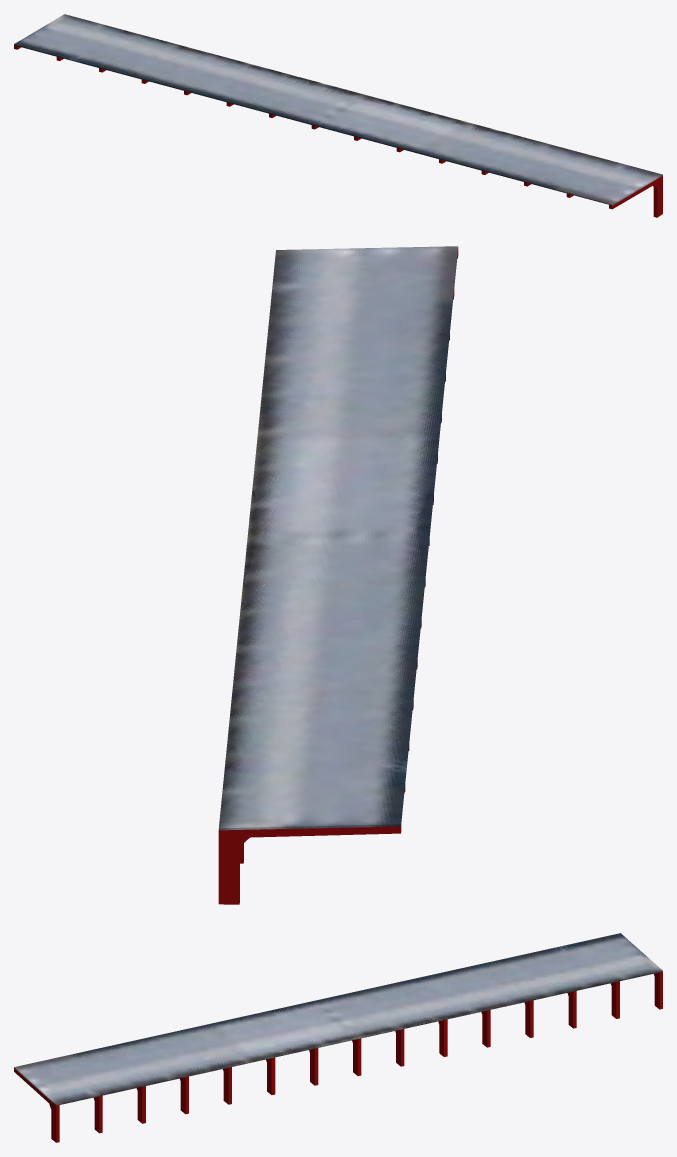
The model's file is tejado.dae.
3 renders of one model, top to bottom at view 1: azimuth 30°, elevation 25°; view 2: azimuth 150°, elevation 25°; view 3: azimuth 270°, elevation 25°, orthographic. The views are drawn at different scales.
Visible parts, largest first — view 1: group_6, group_5; view 2: group_6, group_8; view 3: group_6, group_5, group_12, group_10, group_13, group_14, group_11, group_15, group_16, group_2, group_7, group_1 (+4 smaller).
Part boxes in pixels (x1,y1,x2,y2): group_6: (14, 14, 662, 205); group_5: (609, 176, 662, 217); group_6: (218, 246, 458, 830); group_8: (218, 825, 401, 904); group_6: (14, 933, 662, 1105); group_5: (14, 1068, 59, 1142); group_12: (309, 1048, 318, 1085); group_10: (266, 1057, 275, 1094); group_13: (352, 1038, 361, 1075); group_14: (395, 1029, 404, 1066); group_11: (481, 1010, 490, 1047); group_15: (438, 1019, 447, 1056); group_16: (524, 1000, 533, 1037); group_2: (136, 1086, 145, 1123); group_7: (567, 991, 576, 1028); group_1: (93, 1095, 102, 1133).
Bounding box in the file's own units: 806 × 1314 × 92.91.
2 materials, 1 textured.
